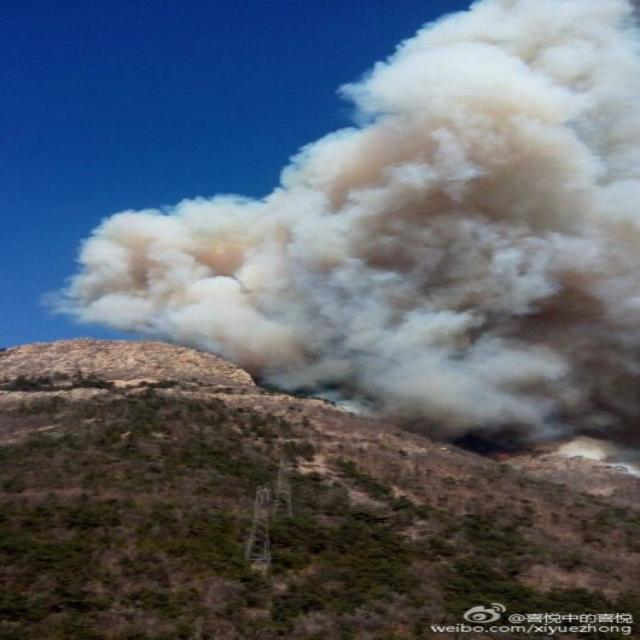Smoke: (41, 1, 640, 452)
